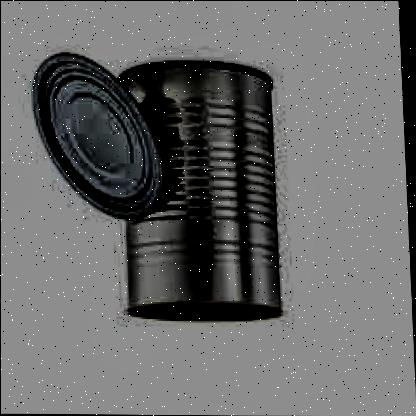Can: (112, 60, 290, 328), (26, 48, 168, 224)
